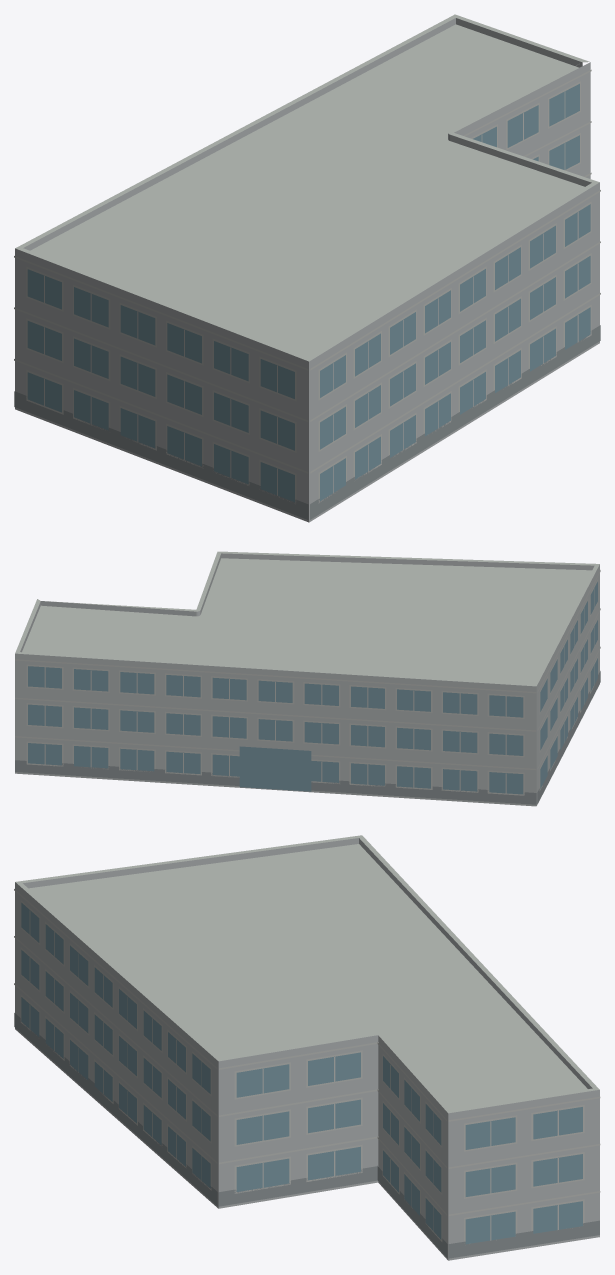
Rendered from public-d6435bc7-661b-4036-9fe3-5ccc8e4ea481.glb.
3 views of the same model, one above another, from view 1: azimuth 30°, elevation 25°; view 2: azimuth 150°, elevation 25°; view 3: azimuth 270°, elevation 25° (orthographic). The views are drawn at different scales.
Visible parts, largest first — view 1: public-d6435bc7-661b-4036-9fe3-5ccc8e4ea481; view 2: public-d6435bc7-661b-4036-9fe3-5ccc8e4ea481; view 3: public-d6435bc7-661b-4036-9fe3-5ccc8e4ea481.
Part boxes in pixels (<box>): public-d6435bc7-661b-4036-9fe3-5ccc8e4ea481: <box>14,14,600,522</box>; public-d6435bc7-661b-4036-9fe3-5ccc8e4ea481: <box>15,551,600,806</box>; public-d6435bc7-661b-4036-9fe3-5ccc8e4ea481: <box>14,835,600,1260</box>.
Size of the model in its own units: 37.16 by 9.15 by 33.02.
